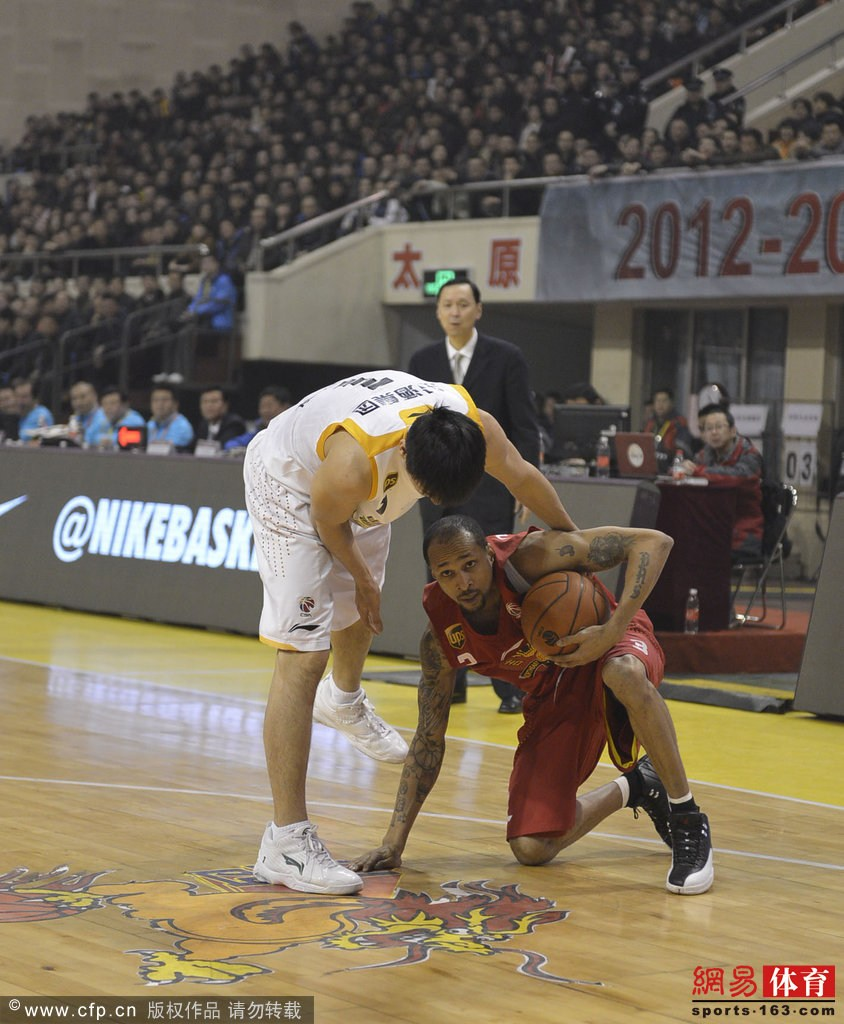10+: (4, 4, 843, 901)
down: (351, 513, 751, 902)
